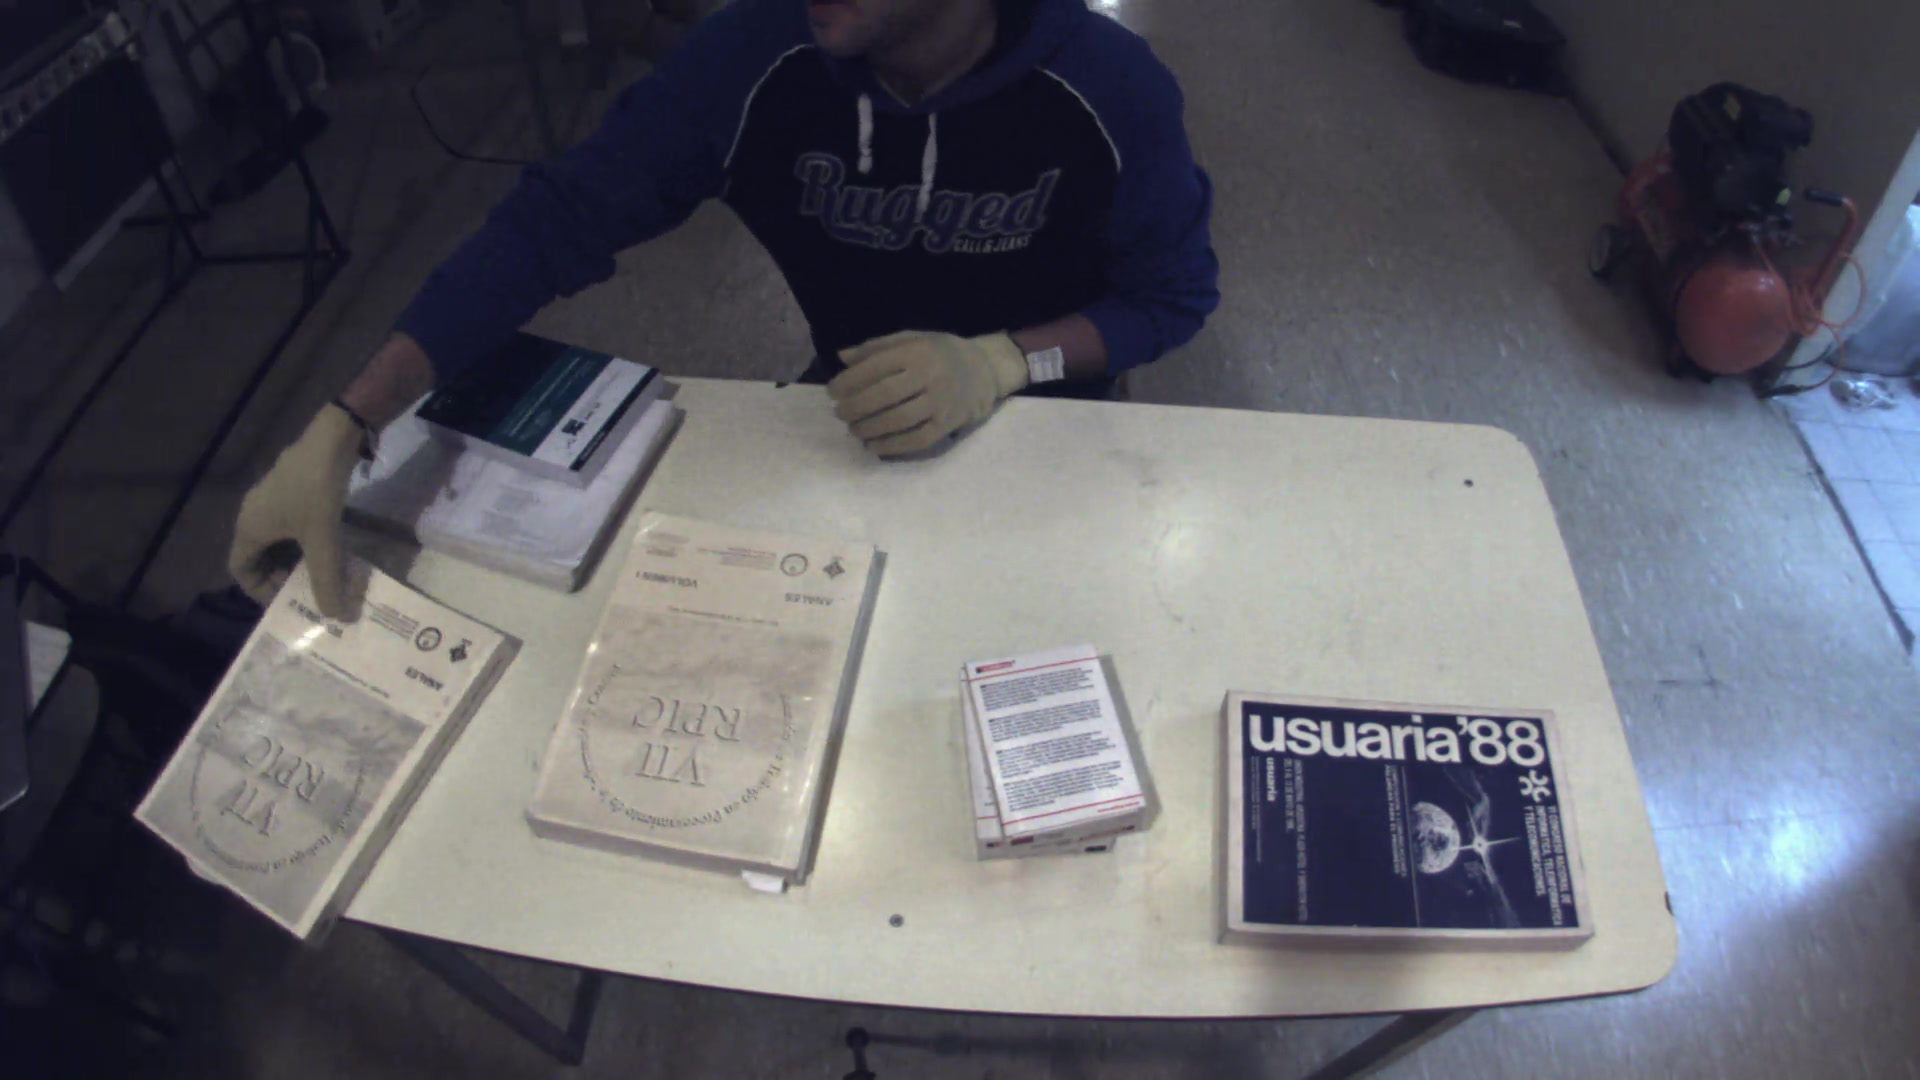hand: (218, 397, 378, 636), (824, 303, 1036, 460)
